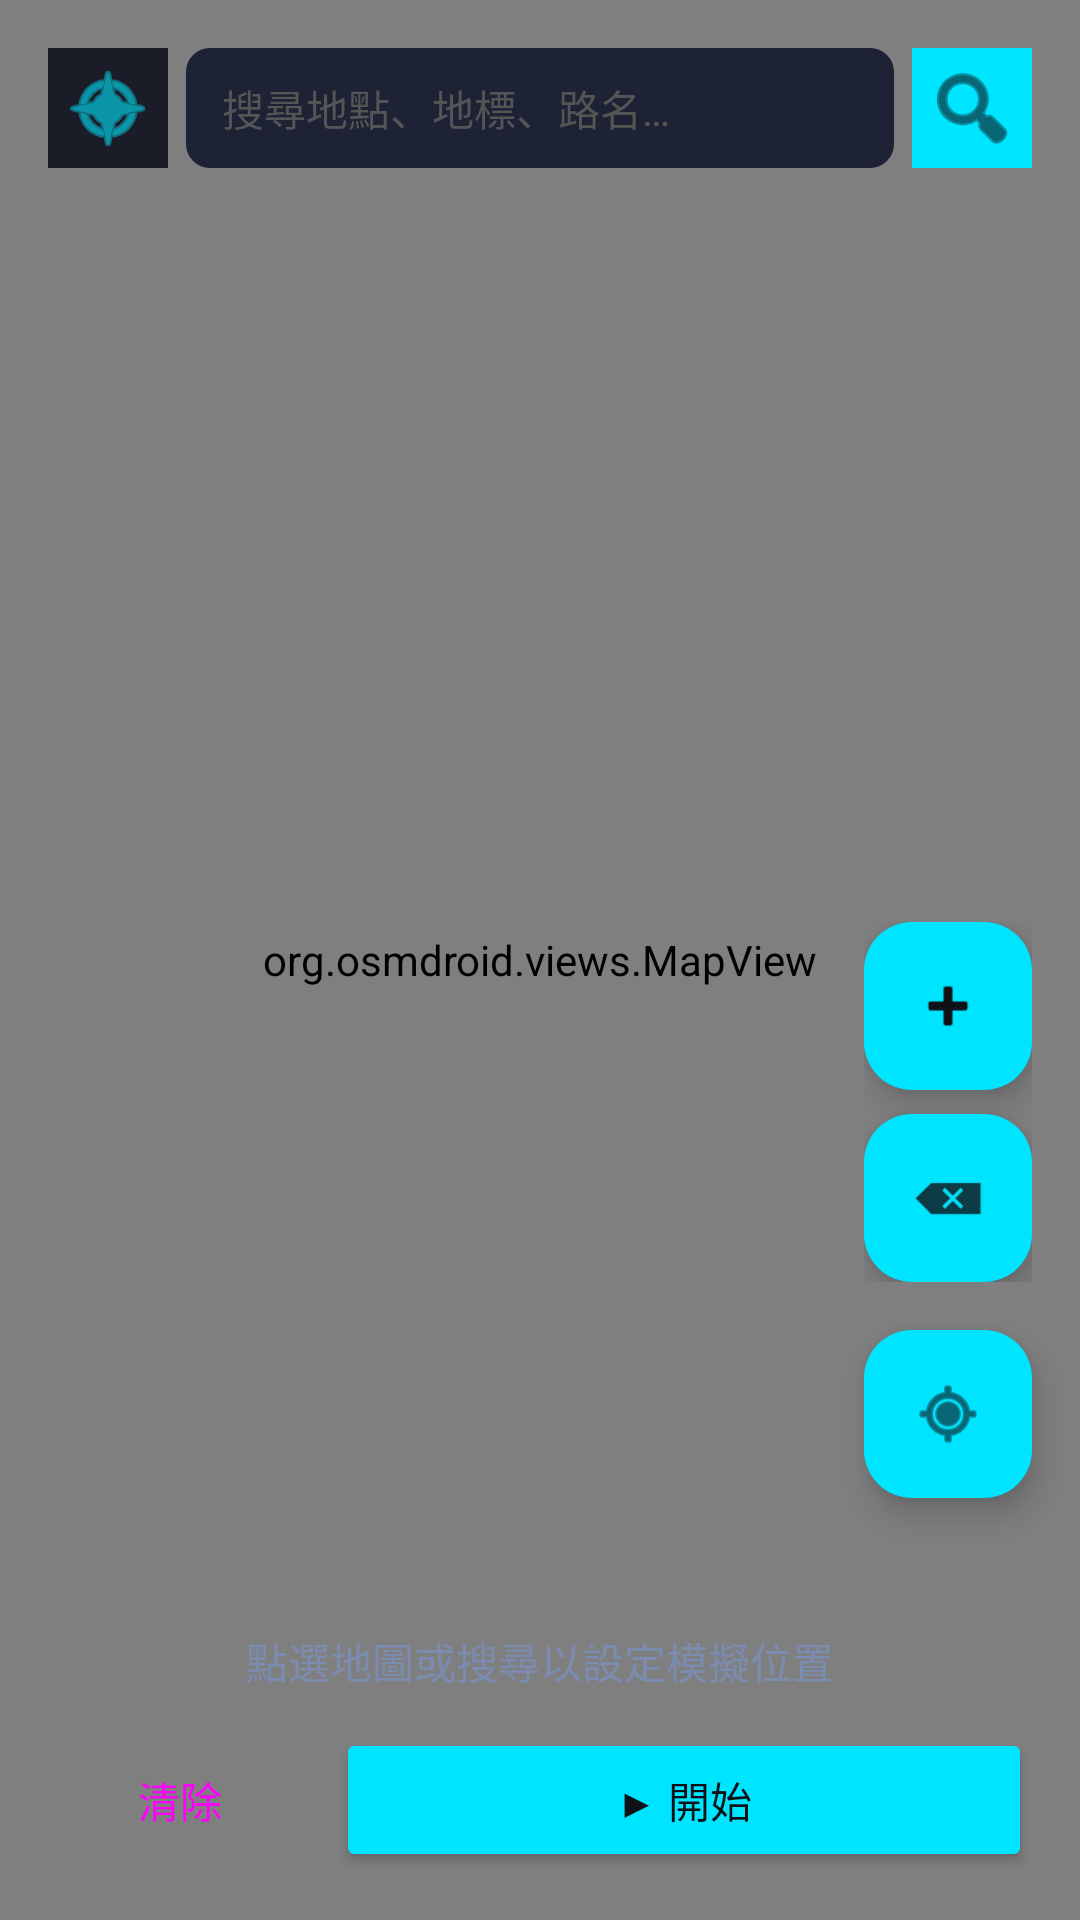

Named icons in this screenshot (1080px x 1920px) and their centers, (x,y):
我的位置: (948,1414)
放大: (948,1006)
